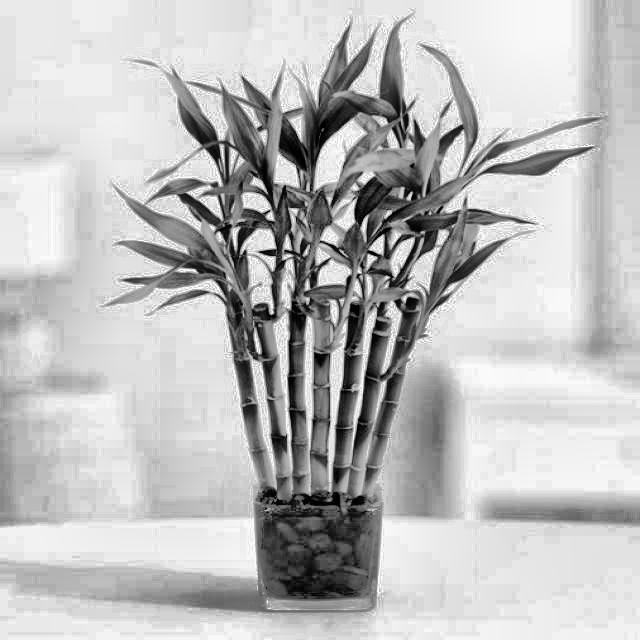plants: (130, 62, 513, 496)
